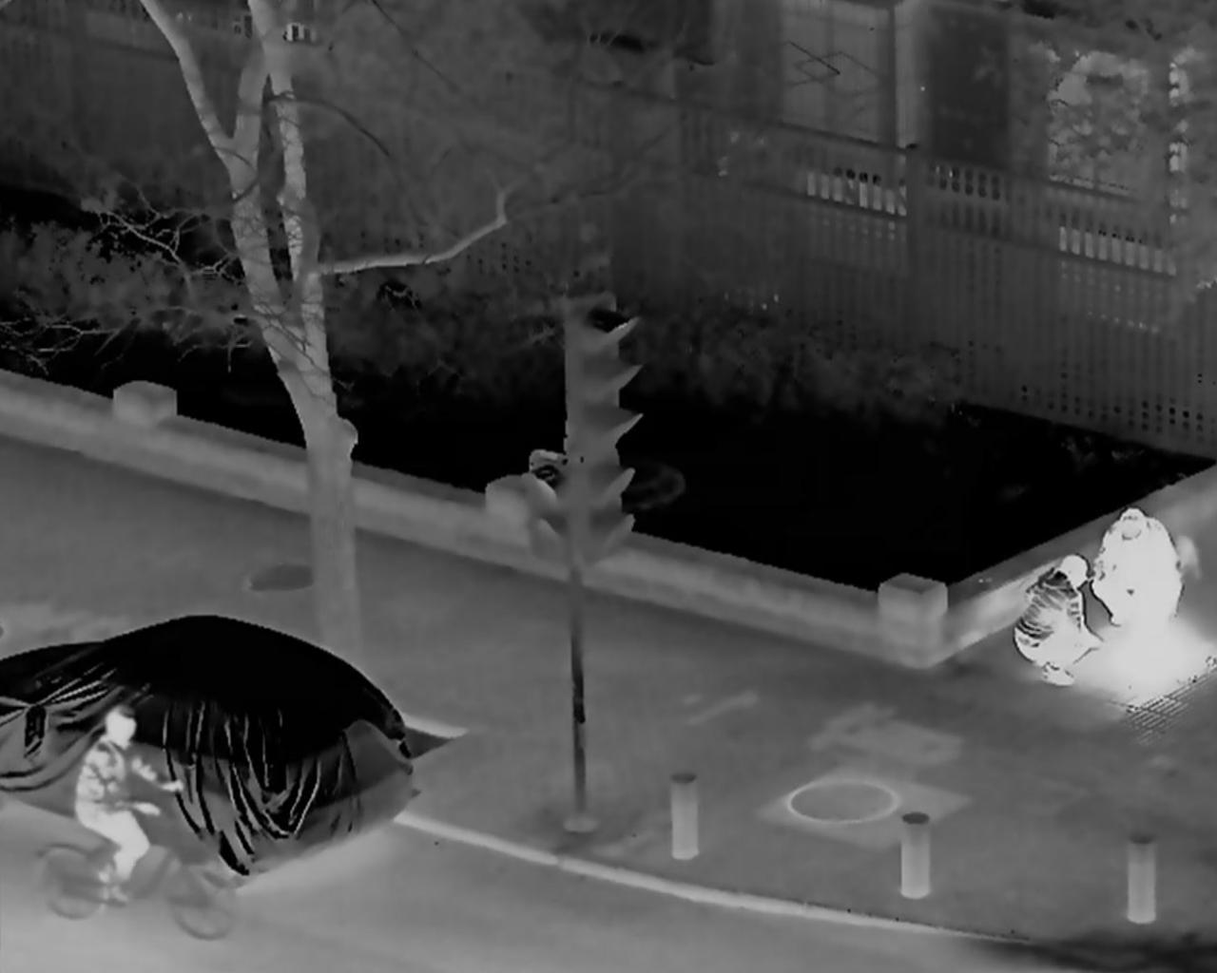person: (74, 706, 184, 893), (1013, 555, 1103, 687), (1094, 509, 1181, 642)
